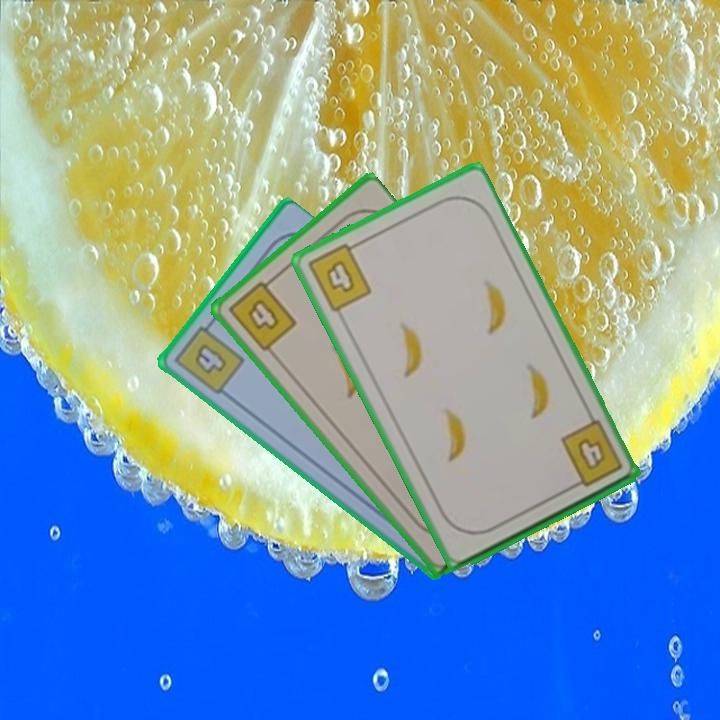4b: (170, 316, 247, 398), (224, 273, 300, 355), (303, 237, 375, 315), (556, 416, 625, 493)
